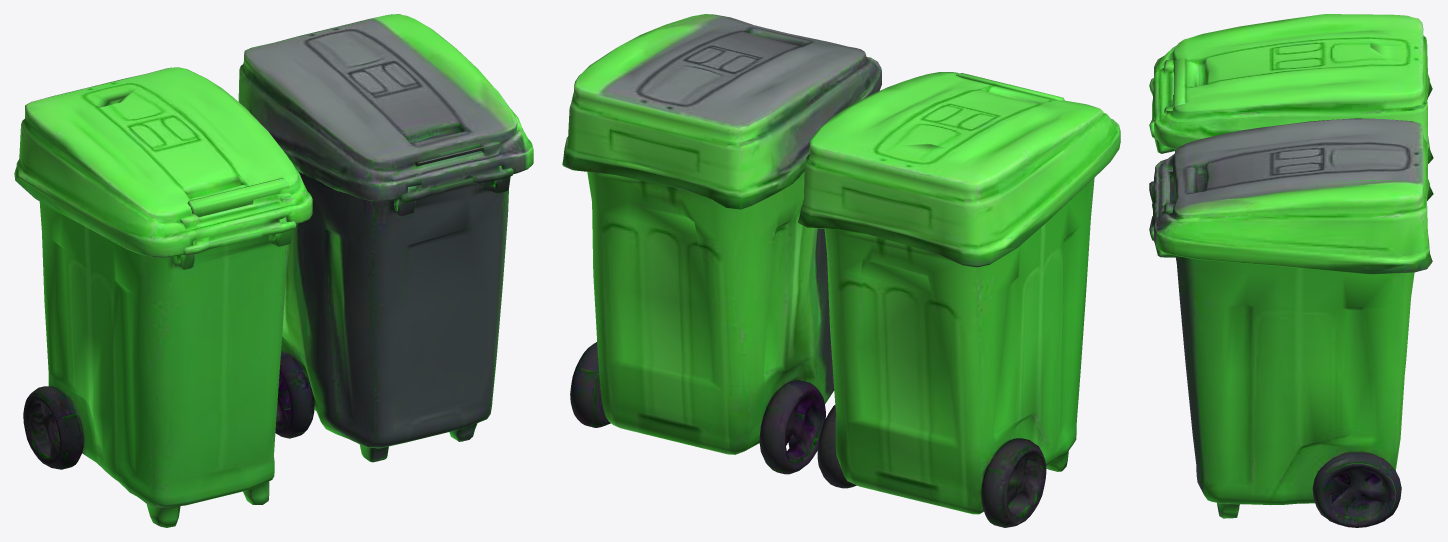
Rendered from trashbins.glb.
The picture shows the model from 3 angles, left to right: view 1: azimuth 30°, elevation 25°; view 2: azimuth 150°, elevation 25°; view 3: azimuth 270°, elevation 25°; orthographic projection. The views are drawn at different scales.
Size of the model in its own units: 1.91 by 1.57 by 1.18.
1 material, 1 textured.
